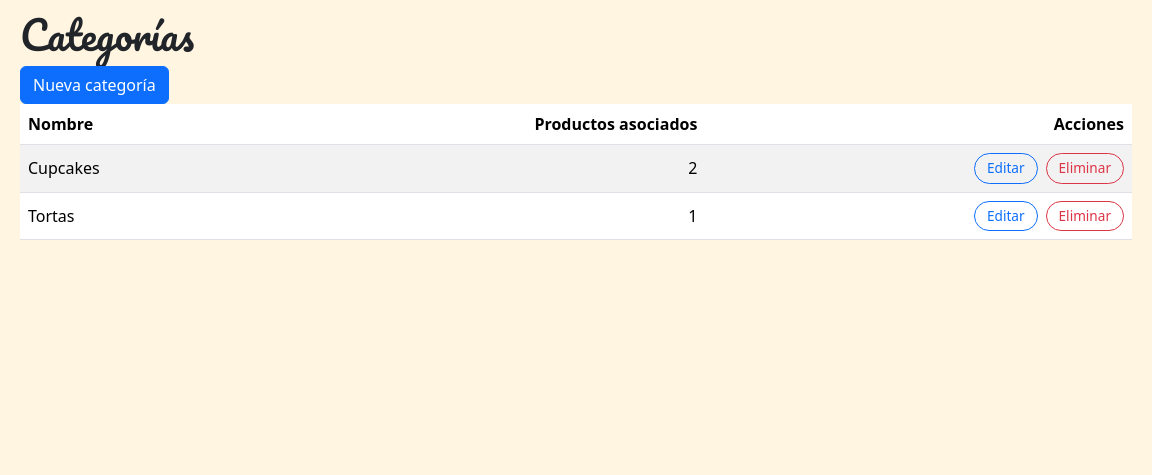
Test case: Admin - Categories › TAU-Admin 24: Valida que no se pueda crear una categoría vacía
Click the button "Nueva categoría".
click(94, 85)  # box x1=20 y1=66 x2=169 y2=104
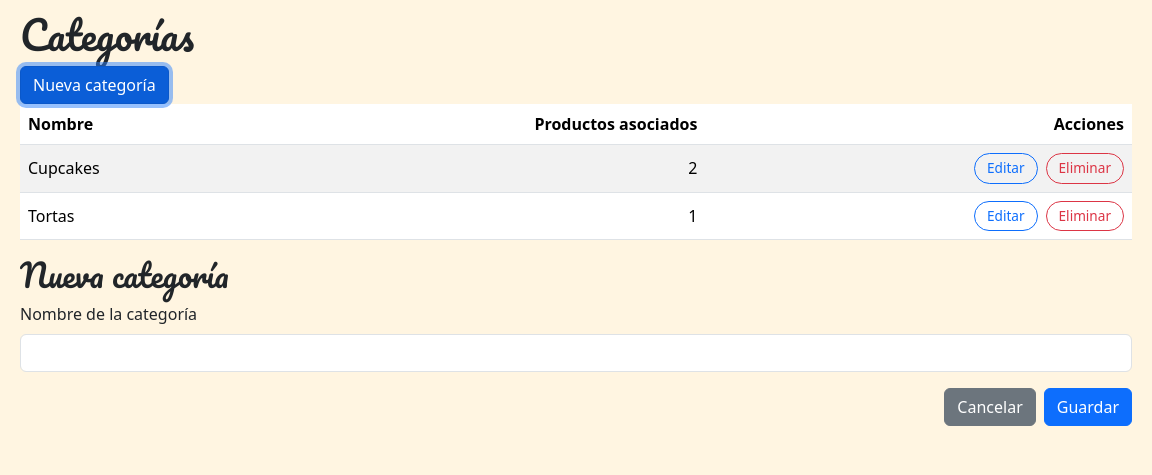
Click the button "Guardar".
click(1088, 407)  # box x1=1044 y1=388 x2=1132 y2=426
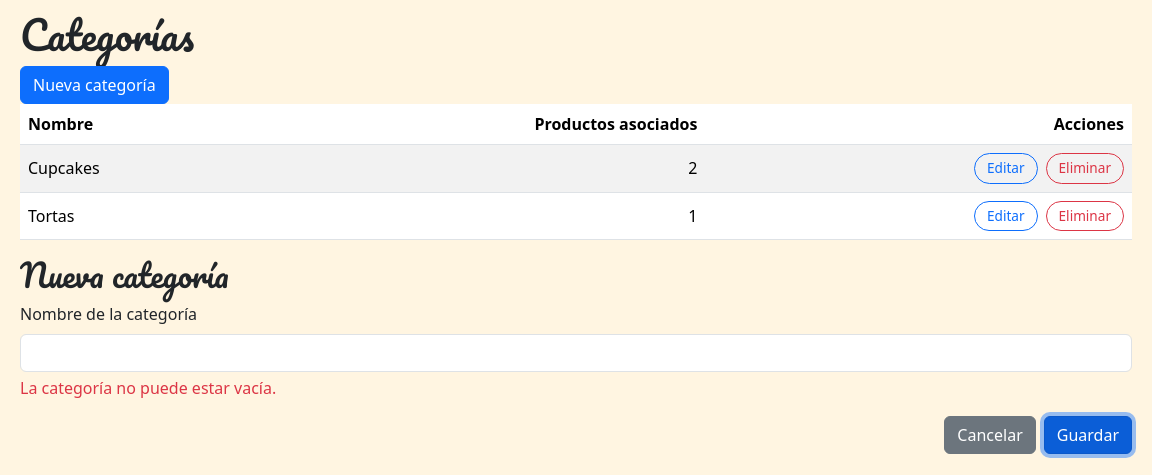
Now the text "La categoría no puede estar vacía." is shown, box x1=20 y1=377 x2=276 y2=399
